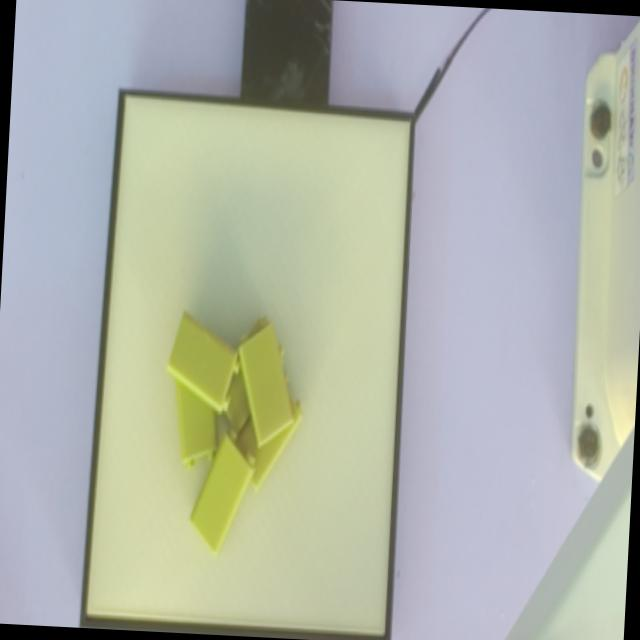bateria: (189, 422, 257, 556), (166, 308, 240, 413), (238, 312, 295, 442)
mesa: (79, 87, 417, 640)
